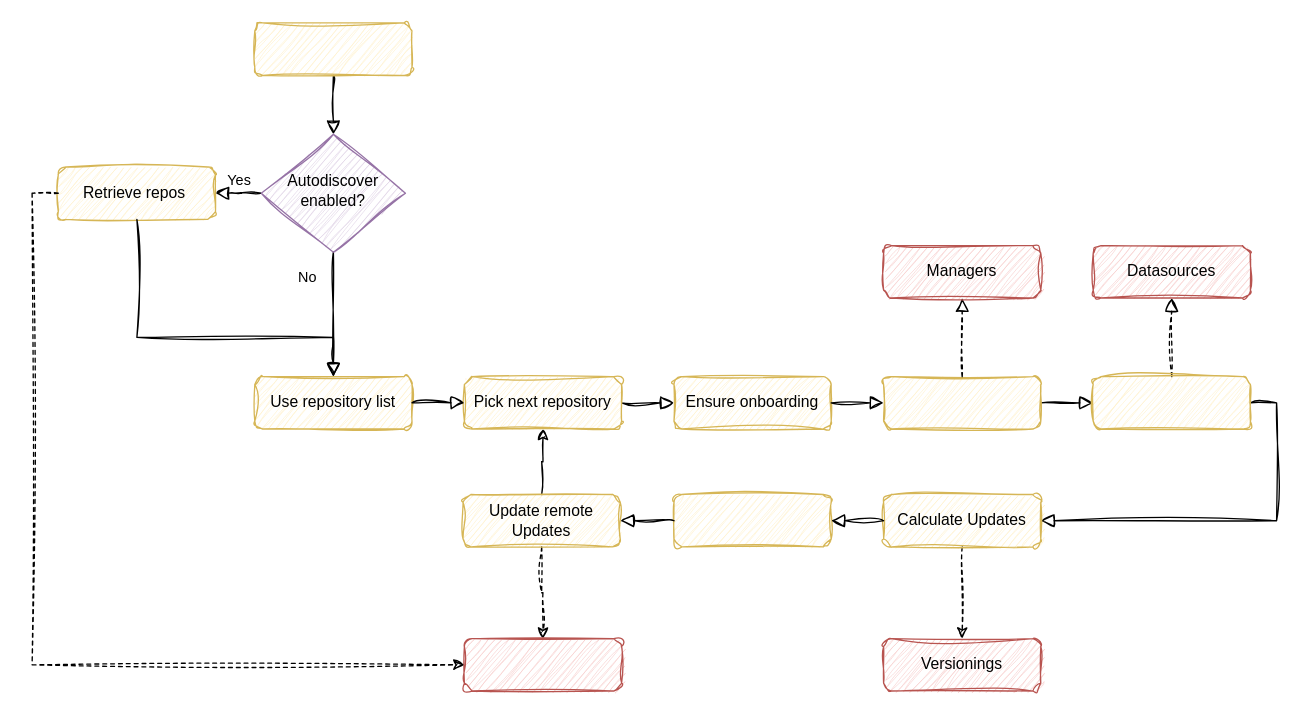
Image size: 1313x714. Some labels were removed from this diagram. The centre of each missing label's shape, as x and y in pixels:
"Extract dependencies" goes at [961,402].
"Fetch releases for dependencies" goes at [1171,402].
"Platforms" goes at [542,664].
"Start Renovate" goes at [332,48].
"Write Updates" goes at [752,520].
